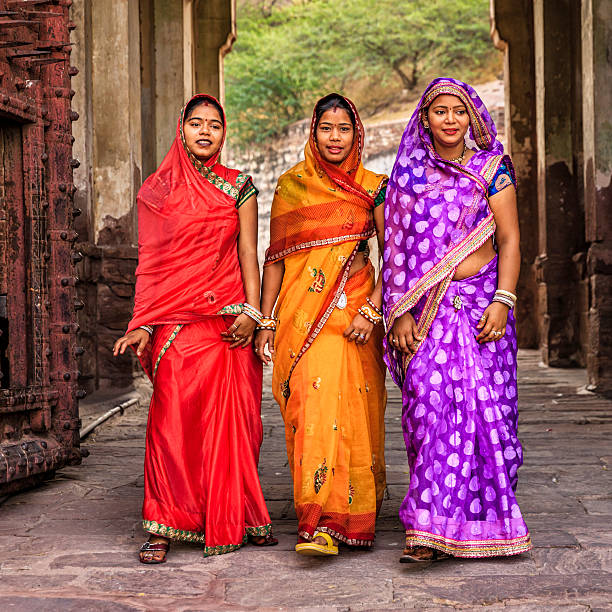women: (291, 90, 374, 171), (156, 81, 232, 169), (404, 84, 498, 153)
